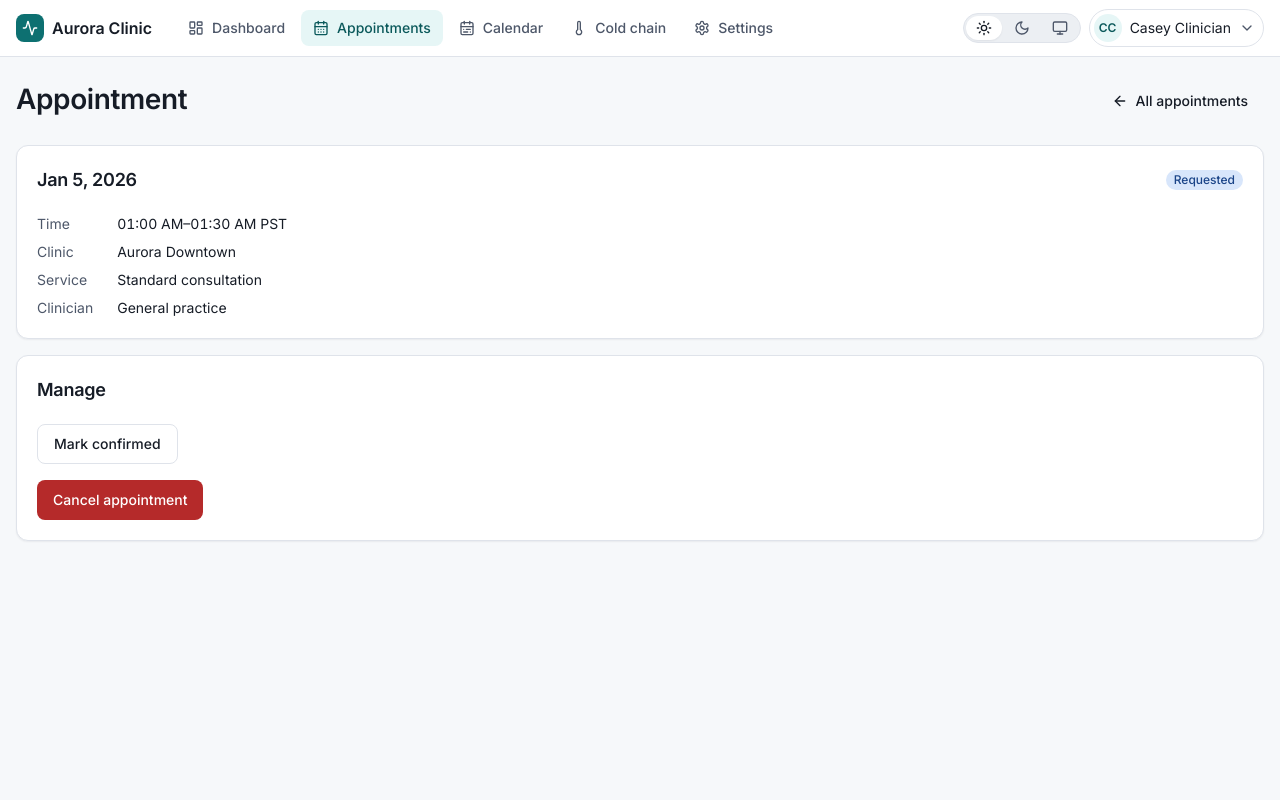
appointment detail transitions › surfaces a 412 stale-precondition error
This screenshot has width=1280, height=800.
What coordinates should you click on to do the following:
click the button "Mark confirmed"
I would click on:
 (107, 444)
Its box is [37, 424, 178, 464].
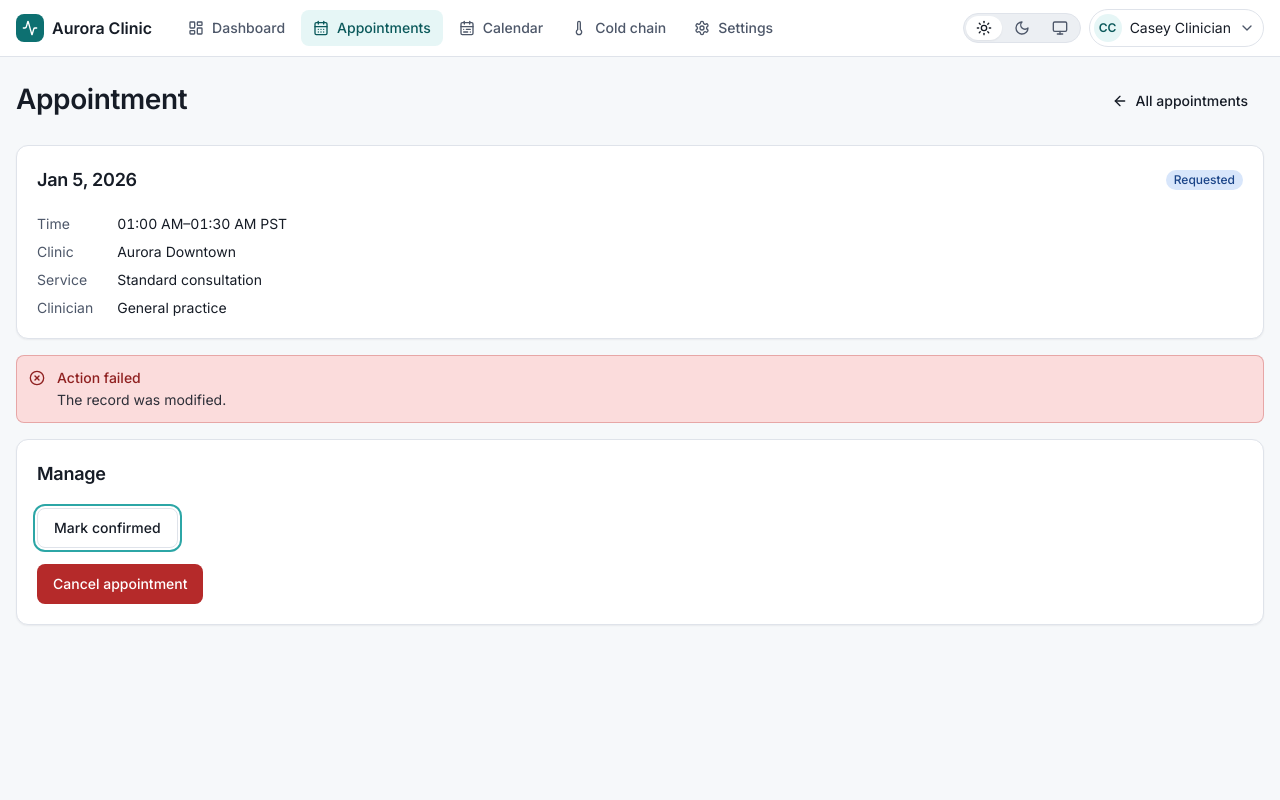
Expected: the text "The record was modified." is shown, [57, 390, 226, 410]
